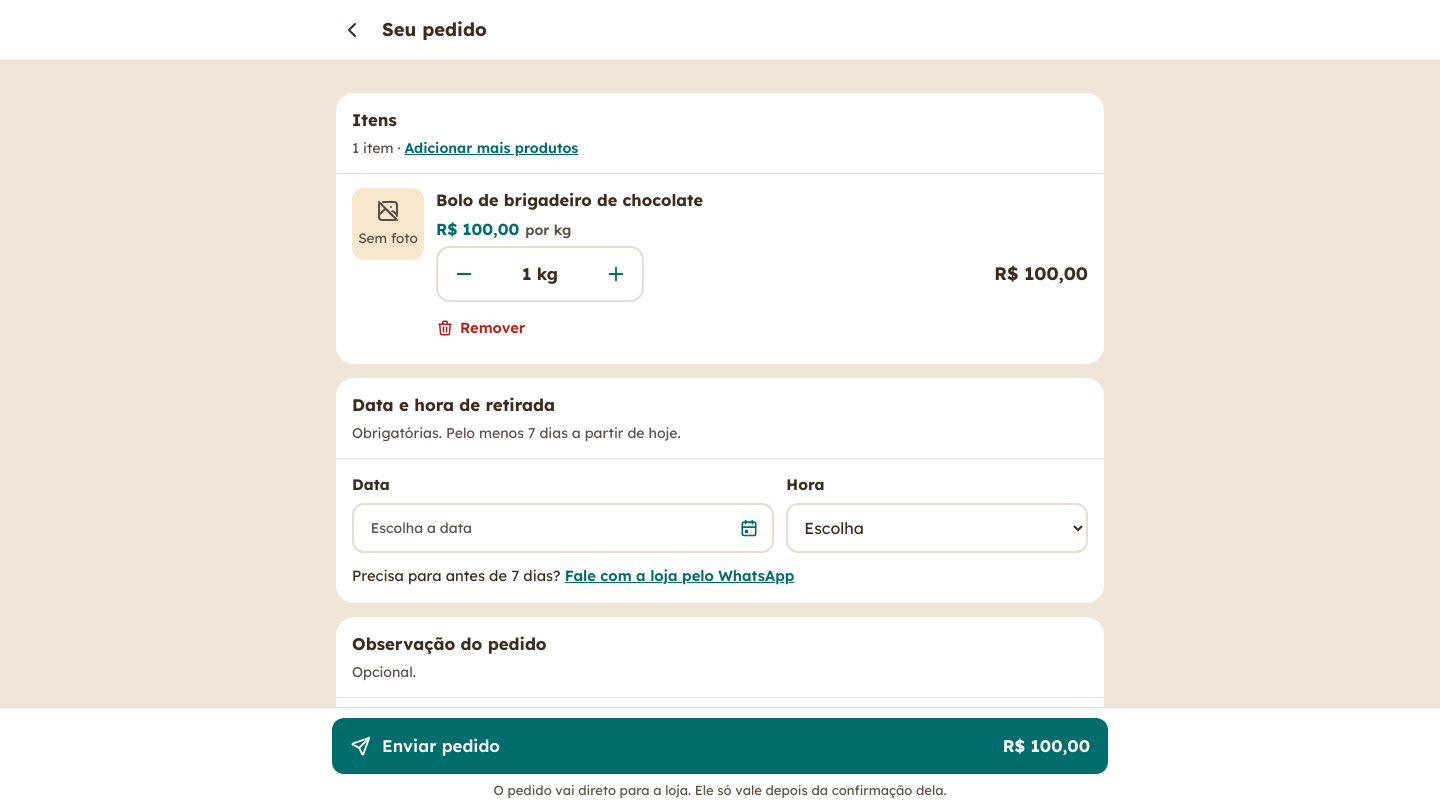
montagem do pedido no cardápio público (ZAP-107) › não envia sem data, hora, nome, WhatsApp e a caixa: erro junto de cada campo e foco no primeiro (ZAP-110)
This screenshot has width=1440, height=810.
Click the button "Enviar pedido R$ 100,00".
click(441, 745)  # box x1=332 y1=718 x2=1108 y2=774
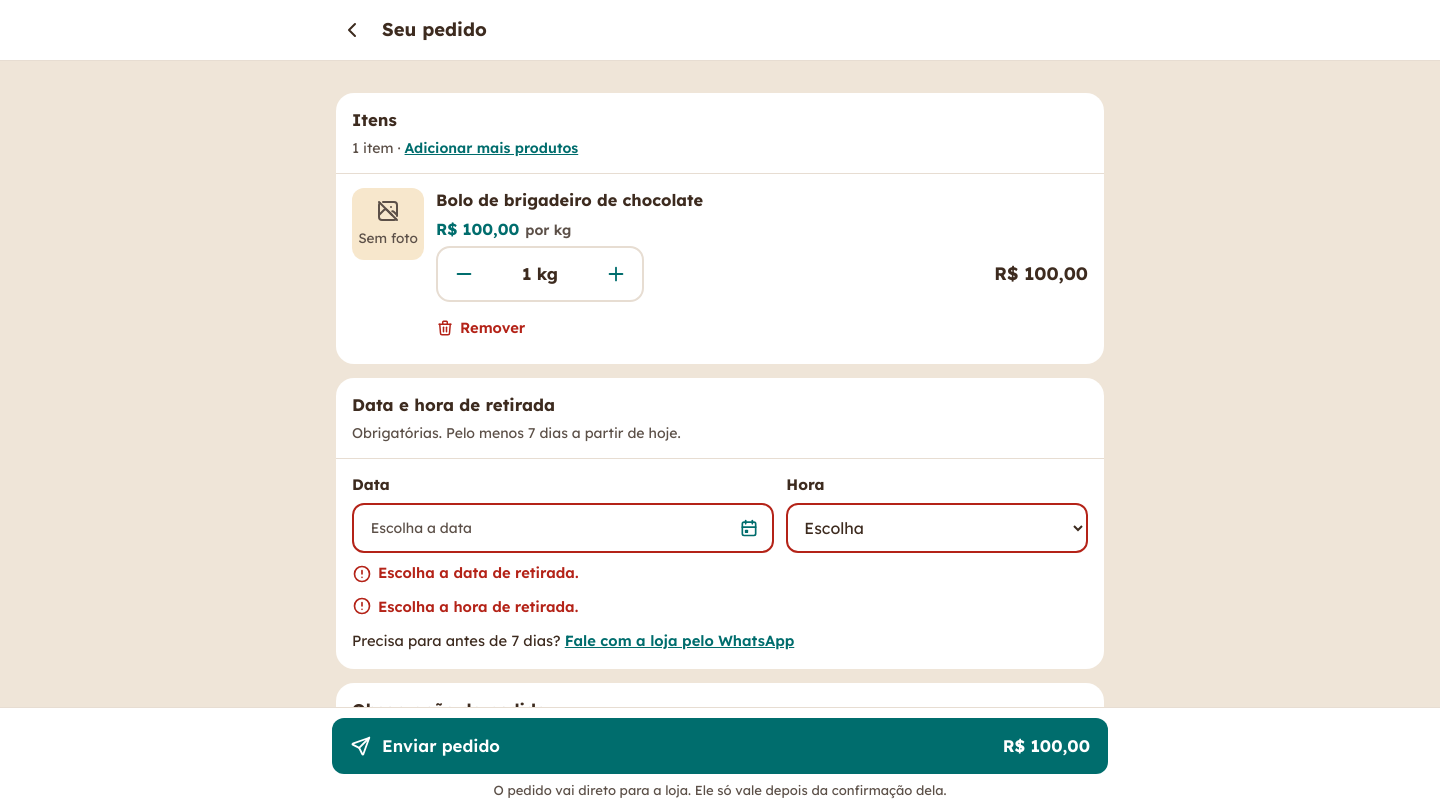
Expected: the text "Escolha a data de retirada." is shown, x1=352 y1=562 x2=579 y2=584
Expected: the text "Escolha a hora de retirada." is shown, x1=352 y1=596 x2=578 y2=616
